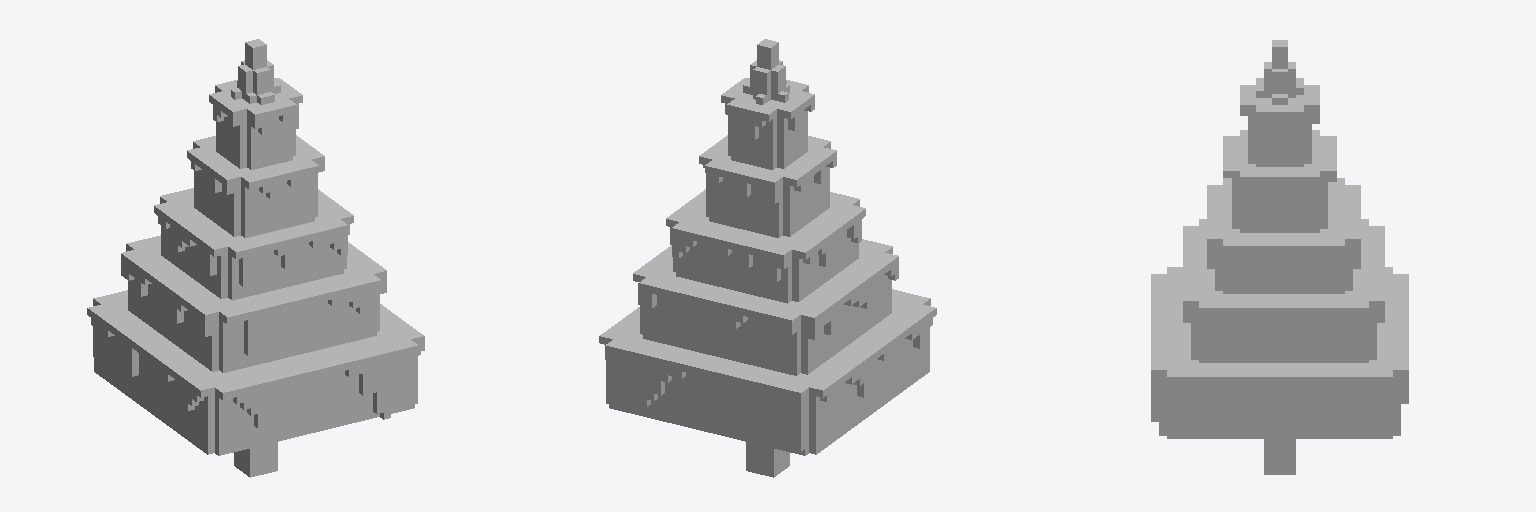
Rendered from Christmas tree_3.obj.
3 views of the same model, side by side, from view 1: azimuth 30°, elevation 25°; view 2: azimuth 150°, elevation 25°; view 3: azimuth 270°, elevation 25° (orthographic).
Visible parts, largest first — view 1: object 1; view 2: object 1; view 3: object 1.
Boxes of the visible parts, box(x1,y1,x2,y2) form: object 1: box(87, 39, 424, 477); object 1: box(599, 39, 936, 477); object 1: box(1151, 40, 1408, 474).
Size of the model in its own units: 3.2 by 5.8 by 3.2.